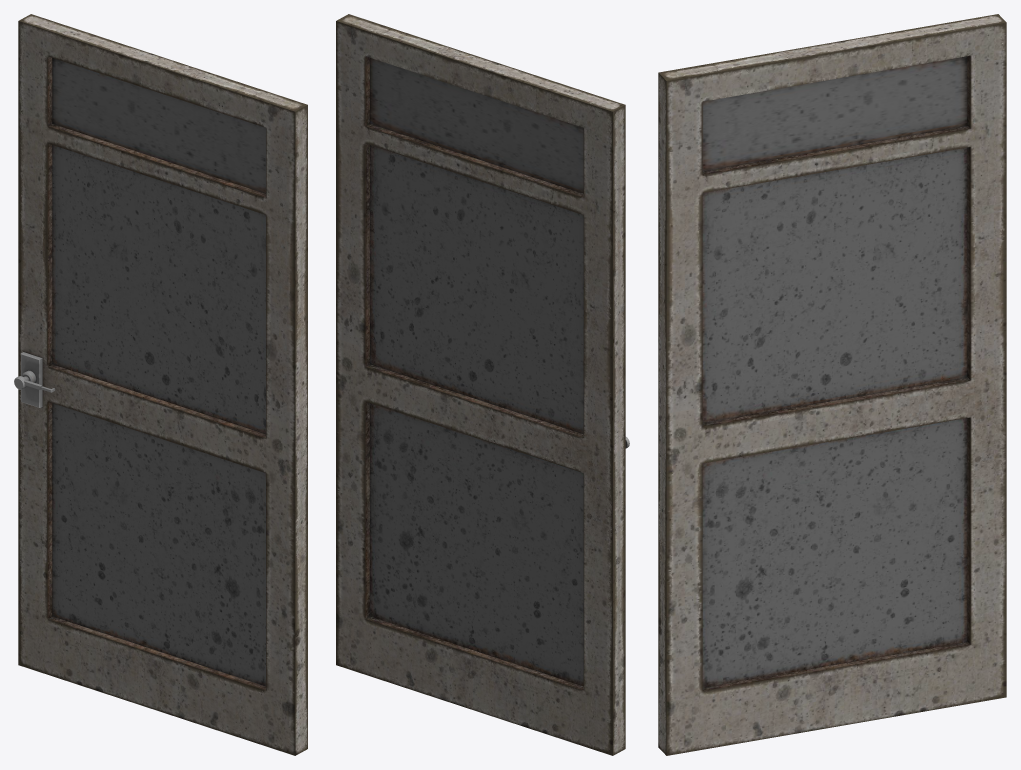
File: Door02.obj
3 renders of one model, left to right at view 1: azimuth 30°, elevation 25°; view 2: azimuth 210°, elevation 25°; view 3: azimuth 270°, elevation 25°, orthographic. The views are drawn at different scales.
Parts seen in each view (by area): view 1: default; view 2: default; view 3: default.
Part boxes in pixels (x1,y1,x2,y2): default: (14,14,307,755); default: (336,14,629,755); default: (658,14,1006,755).
Bounding box in the file's own units: 5.88 × 24.75 × 11.57.
1 material, 1 textured.
